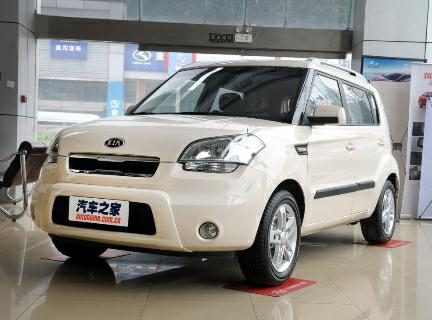起亚-秀尔: (28, 54, 406, 287)
